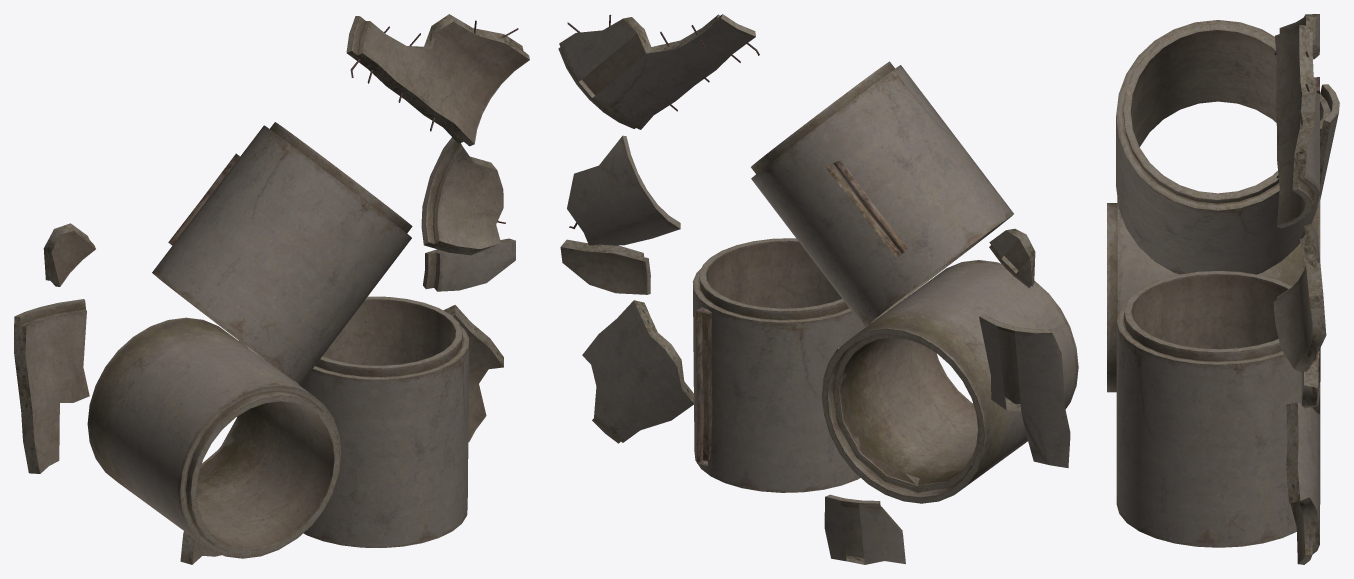
File: hd_envAM_032_ConcreteRings01.glb
The picture shows the model from 3 angles, left to right: view 1: azimuth 30°, elevation 25°; view 2: azimuth 150°, elevation 25°; view 3: azimuth 270°, elevation 25°; orthographic projection. The views are drawn at different scales.
Visible parts, largest first — view 1: set_0_group_1, set_0_group_0; view 2: set_0_group_1, set_0_group_0; view 3: set_0_group_1, set_0_group_0.
Boxes of the visible parts, x1,y1,x2,y2 form: set_0_group_1: (87, 122, 469, 558); set_0_group_0: (14, 14, 529, 564); set_0_group_1: (693, 61, 1078, 503); set_0_group_0: (558, 14, 1070, 564); set_0_group_1: (1107, 20, 1320, 547); set_0_group_0: (1273, 14, 1339, 564).
Size of the model in its own units: 6.31 by 6.05 by 2.29.
Materials: 2 (2 with a texture image).
